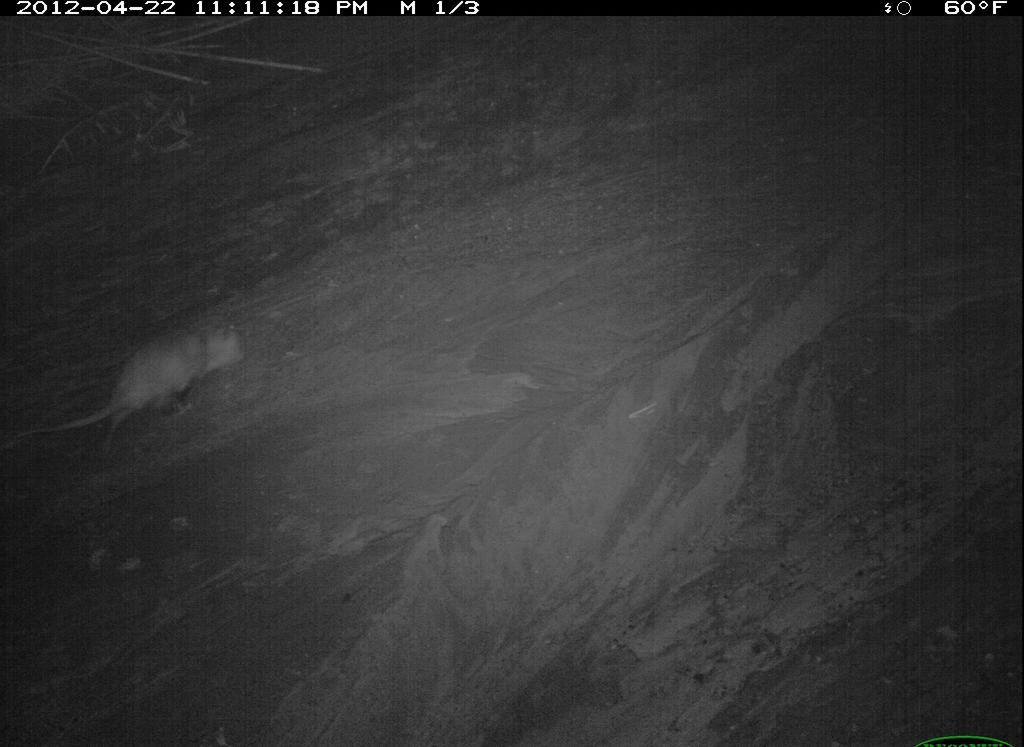opossum: (29, 632, 518, 747)
